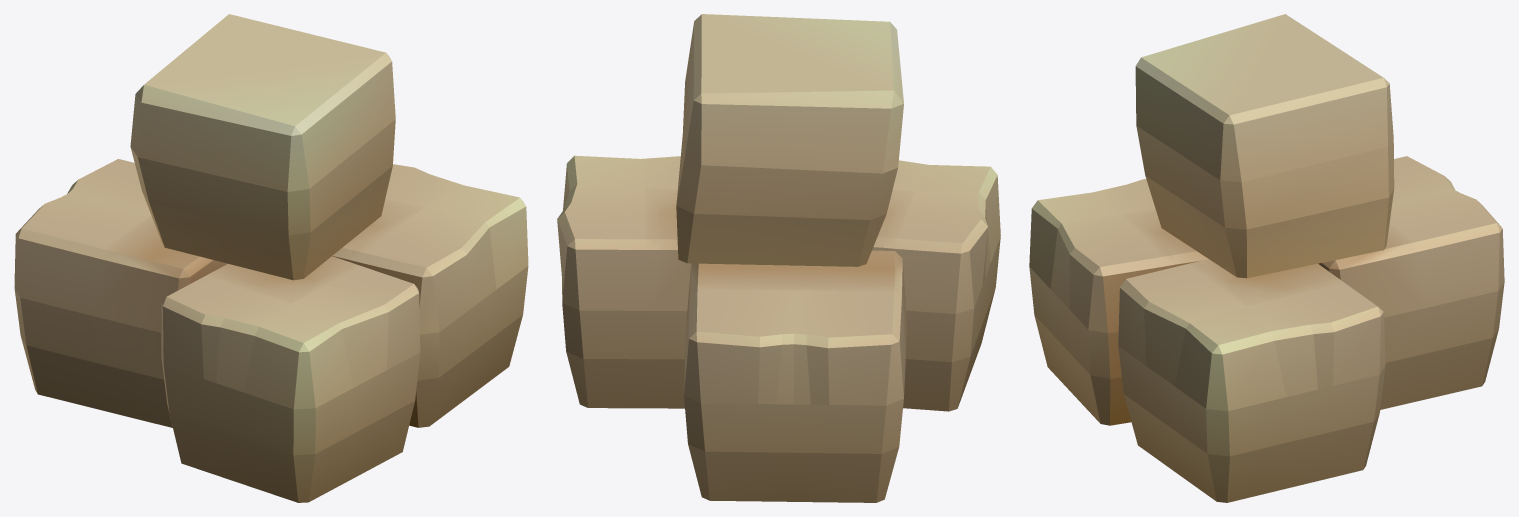
The model's file is Icon_sugar.fbx.
3 views of the same model, side by side, from view 1: azimuth 30°, elevation 25°; view 2: azimuth 150°, elevation 25°; view 3: azimuth 270°, elevation 25° (orthographic). The views are drawn at different scales.
Visible parts, largest first — view 1: Cube.003, Cube, Cube.002, Cube.001; view 2: Cube.003, Cube.002, Cube.001, Cube; view 3: Cube.003, Cube.001, Cube.002, Cube.
Part boxes in pixels (<box>): Cube.003: <box>130,14,395,280</box>; Cube: <box>161,256,420,502</box>; Cube.002: <box>14,159,227,427</box>; Cube.001: <box>332,164,528,427</box>; Cube.003: <box>676,14,903,266</box>; Cube.002: <box>684,250,906,502</box>; Cube.001: <box>557,155,691,408</box>; Cube: <box>872,160,1000,411</box>; Cube.003: <box>1135,14,1394,278</box>; Cube.001: <box>1118,259,1385,502</box>; Cube.002: <box>1318,156,1504,409</box>; Cube: <box>1029,179,1208,425</box>.
Size of the model in its own units: 438 by 343 by 443.
